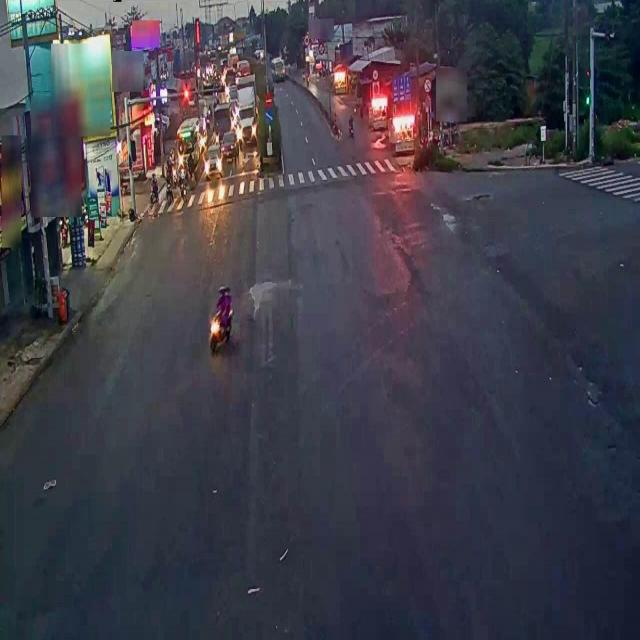motorcycle: (203, 284, 234, 350)
